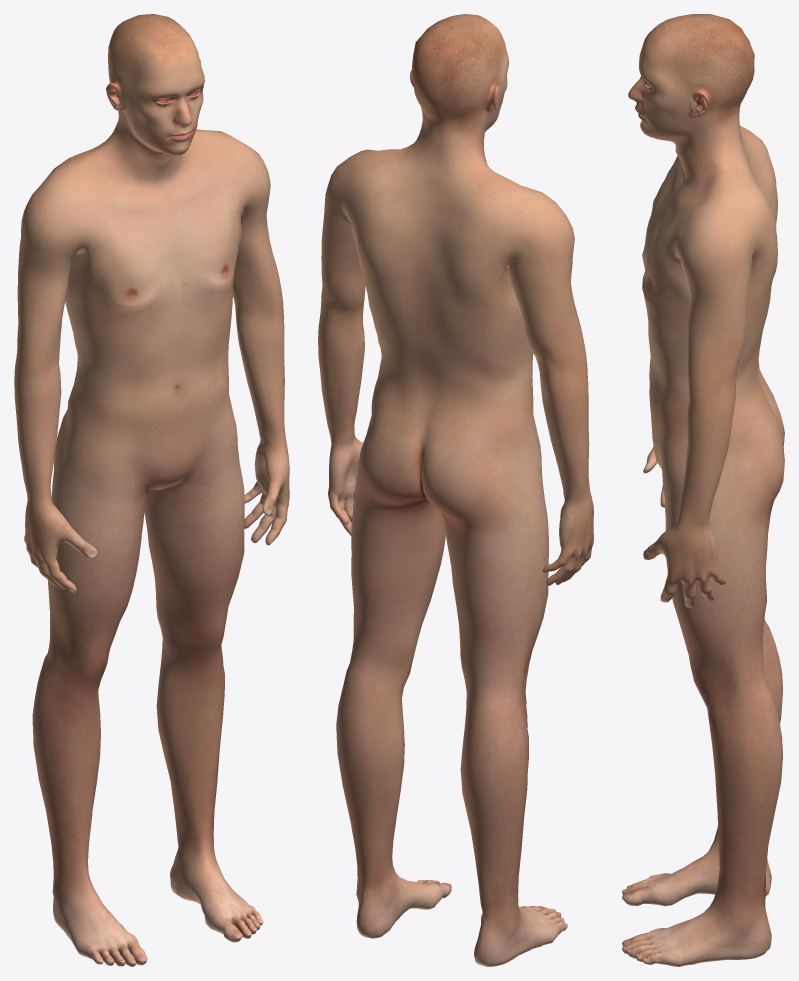
File: body.gltf
The picture shows the model from 3 angles, left to right: view 1: azimuth 30°, elevation 25°; view 2: azimuth 150°, elevation 25°; view 3: azimuth 270°, elevation 25°; orthographic projection.
Visible parts, largest first — view 1: body; view 2: body; view 3: body.
Part boxes in pixels (bbox=[...]): body: bbox=[14, 14, 289, 966]; body: bbox=[318, 14, 593, 966]; body: bbox=[622, 14, 784, 966].
Bounding box in the file's own units: 0.5329 × 1.75 × 0.2846.
Materials: 1 (1 with a texture image).
